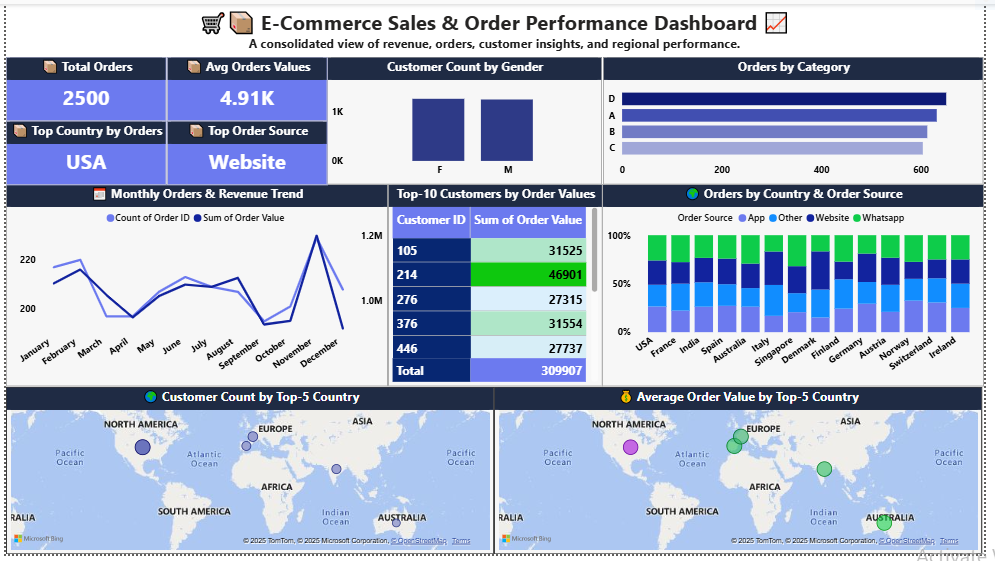

The dashboard page shown, as its layout file describes it:
{"tool":"powerbi","page":{"name":"Orders","canvas":[1280,720],"ordinal":1},"visuals":[{"type":"textbox","box":[0,0,1278.7,69.1],"z":0},{"type":"lineChart","title":"📅 Monthly Orders & Revenue Trend","fields":{"Category":["Orders.Order Datetime.Variation.Date Hierarchy.Month"],"Y":["CountNonNull(Orders.Order ID)"],"Y2":["Sum(Orders.Order Value)"]},"box":[0,236.2,499.7,265],"z":1000},{"type":"hundredPercentStackedColumnChart","title":"🌍 Orders by Country & Order Source","fields":{"Y":["CountNonNull(Orders.Order ID)"],"Category":["Orders.Customer Country"],"Series":["Orders.Order Source"]},"box":[780.5,236.2,499.7,265],"z":2000},{"type":"map","title":"💰 Average Order Value by Top-5 Country","fields":{"Category":["Orders.Customer Country"],"Size":["Avg(Orders.Order Value)"]},"box":[639.4,501.1,639.4,218.9],"z":3000},{"type":"map","title":"🌍 Customer Count by Top-5 Country","fields":{"Category":["Orders.Customer Country"],"Size":["CountNonNull(Orders.Customer ID)"]},"box":[0,501.1,639.4,218.9],"z":4000},{"type":"pivotTable","title":"Top-10 Customers by Order Values","fields":{"Rows":["Orders.Customer ID"],"Values":["Sum(Orders.Order Value)"]},"box":[499.7,236.2,280.8,265],"z":5000},{"type":"clusteredBarChart","title":"Orders by Category","fields":{"Category":["Customers.Category"],"Y":["CountNonNull(Orders.Order ID)"]},"box":[781.9,69.1,498.2,167],"z":6000},{"type":"clusteredColumnChart","title":"Customer Count by Gender","fields":{"Category":["Customers.Gender"],"Y":["CountNonNull(Customers.Customer ID)"]},"box":[420.5,69.1,360,167],"z":7000},{"type":"card","title":"📦 Avg Orders Values","fields":{"Values":["Avg(Orders.Order Value)"]},"box":[210.2,69.1,210.2,83.5],"z":8000},{"type":"card","title":"📦 Total Orders","fields":{"Values":["Orders.Total Orders"]},"box":[0,69.1,210.2,83.5],"z":9000},{"type":"card","title":"📦 Top Country by Orders","fields":{"Values":["Min(Orders.Customer Country)"]},"box":[0,152.6,210.2,83.5],"z":10000},{"type":"card","title":"📦 Top Order Source","fields":{"Values":["Min(Orders.Order Source)"]},"box":[210.2,152.6,210.2,83.5],"z":11000}]}

Visuals, with their boxes in screenshot pixels (x1, y1, x2, y2), scaled from the page's 1280x720 canvas onto the 995x561 screenshot:
textbox: rect(0, 0, 994, 54)
"📅 Monthly Orders & Revenue Trend" lineChart: rect(0, 184, 388, 391)
"🌍 Orders by Country & Order Source" hundredPercentStackedColumnChart: rect(607, 184, 994, 391)
"💰 Average Order Value by Top-5 Country" map: rect(497, 390, 994, 560)
"🌍 Customer Count by Top-5 Country" map: rect(0, 390, 497, 560)
"Top-10 Customers by Order Values" pivotTable: rect(388, 184, 607, 391)
"Orders by Category" clusteredBarChart: rect(608, 54, 994, 184)
"Customer Count by Gender" clusteredColumnChart: rect(327, 54, 607, 184)
"📦 Avg Orders Values" card: rect(163, 54, 327, 119)
"📦 Total Orders" card: rect(0, 54, 163, 119)
"📦 Top Country by Orders" card: rect(0, 119, 163, 184)
"📦 Top Order Source" card: rect(163, 119, 327, 184)
